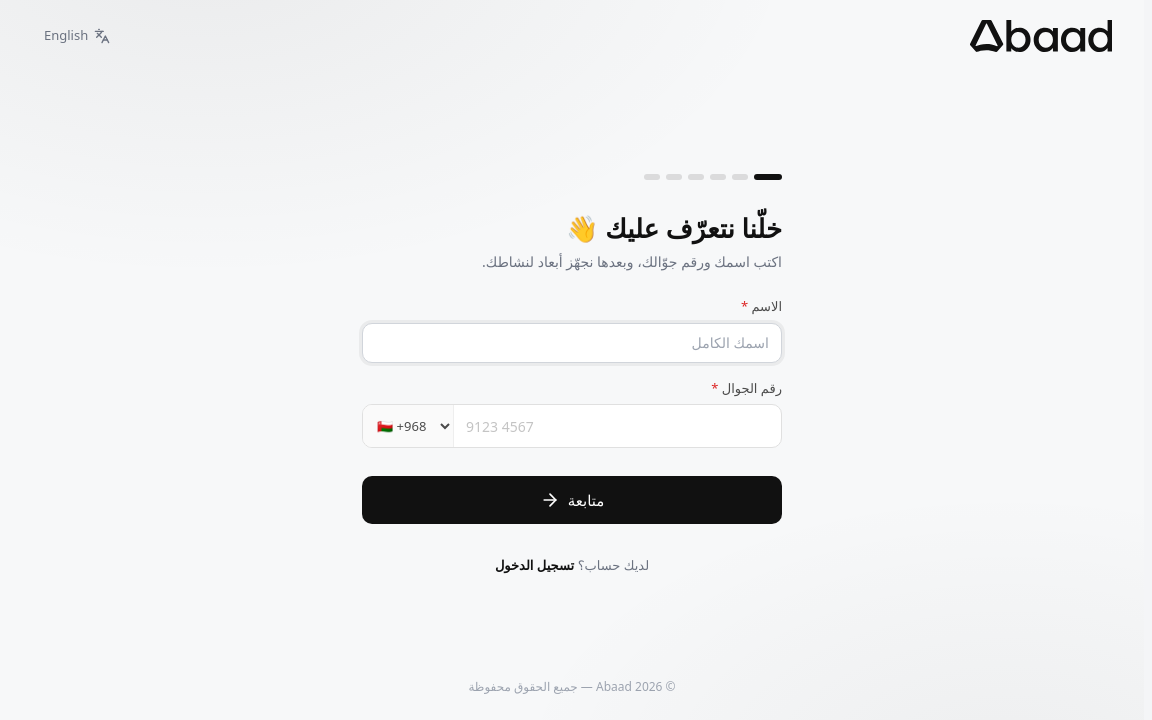
Test: معالج التسجيل › يُتيح تخطّي الخطوات الاختياريّة وحدها
Type "سالم" into the field labelled "الاسم *".
click(572, 343); type("سالم")  # box [362,323,782,363]
Type "91234567" into the field labelled "رقم الجوال *".
click(618, 426); type("91234567")  # box [454,405,781,447]
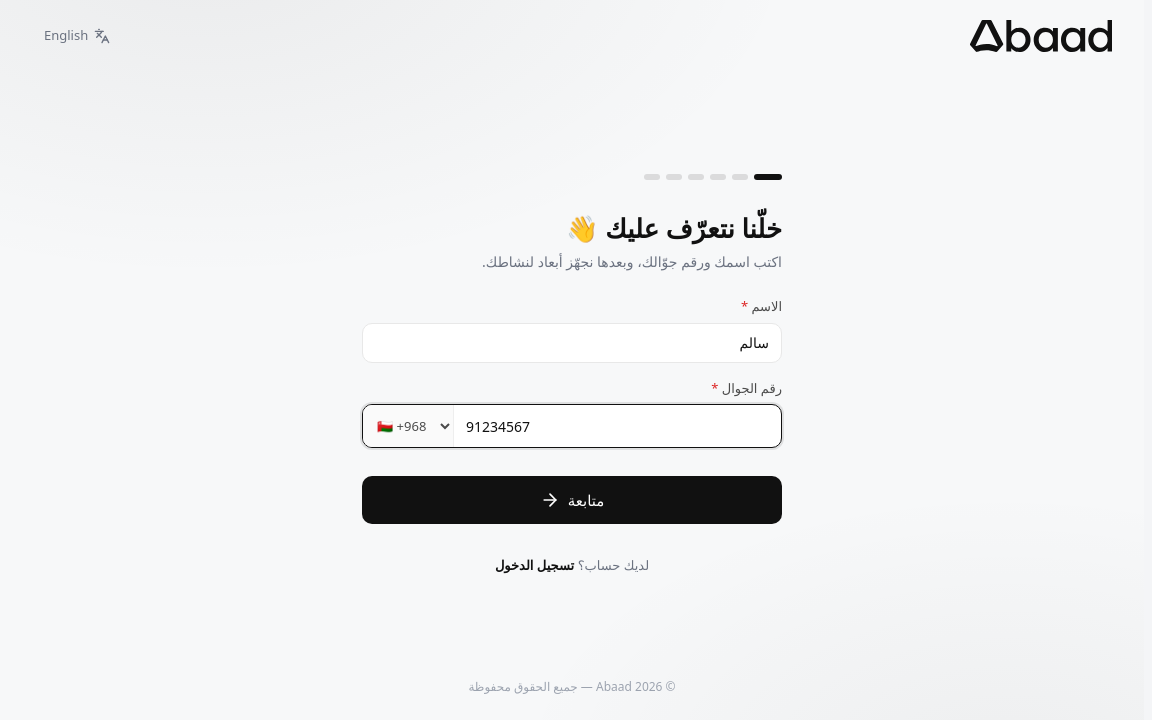
Click the button "متابعة".
click(572, 500)  # box [362,476,782,524]
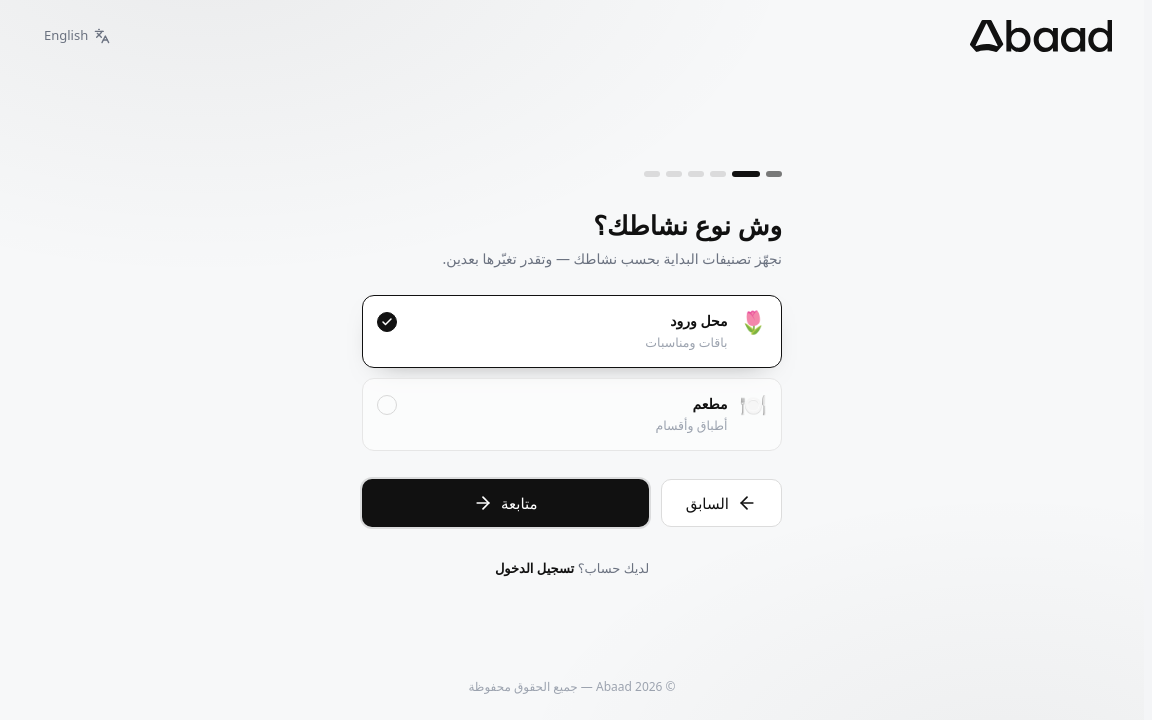
Expected: the button "تخطّي" is not shown
Click the button "متابعة".
click(505, 503)  # box [362,479,649,527]
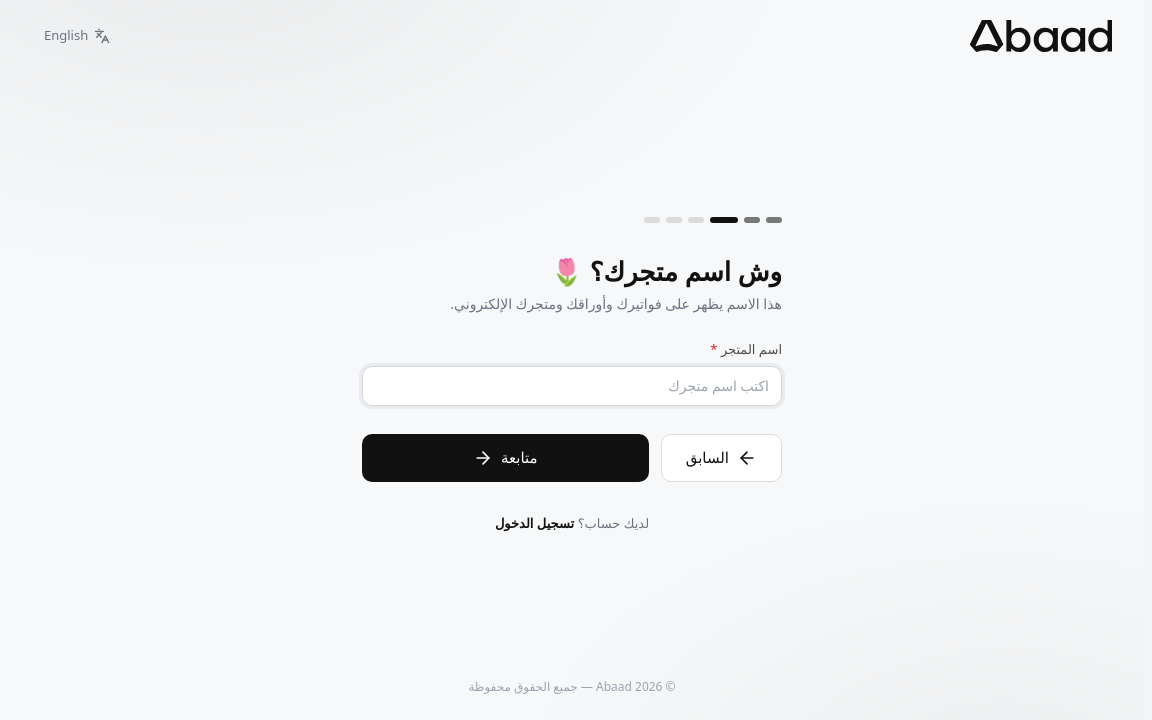
Type "زهور" into the field labelled "اسم المتجر *".
click(572, 386); type("زهور")  # box [362,366,782,406]
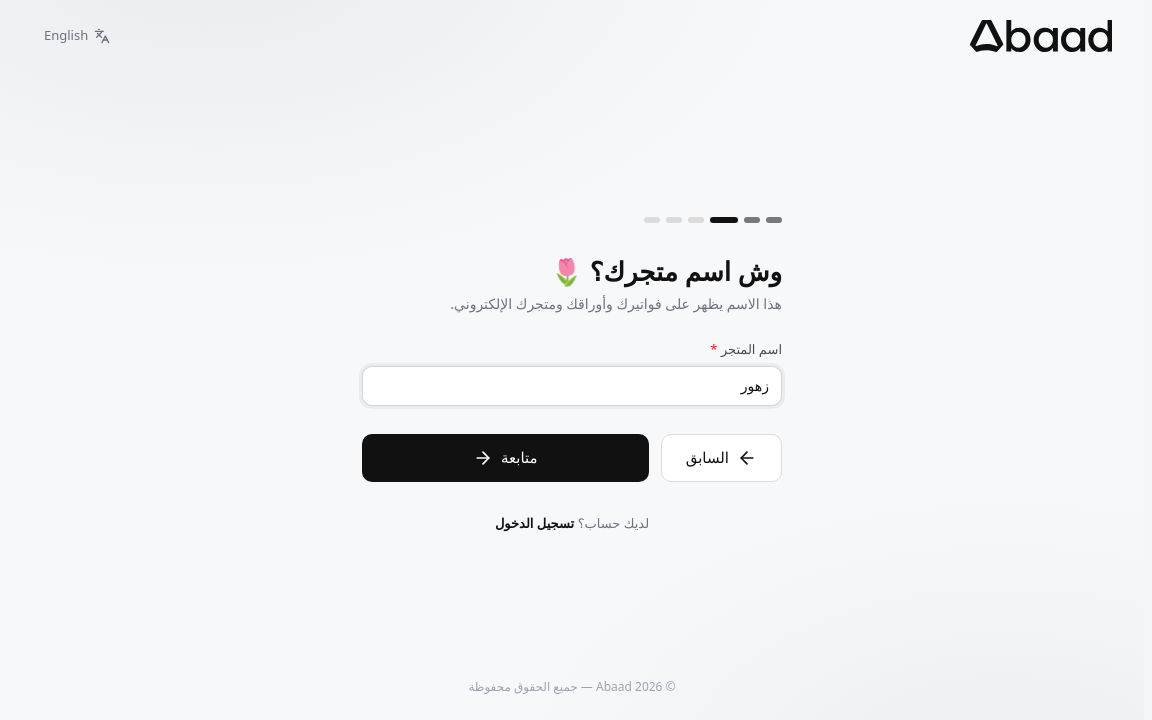
Click the button "متابعة".
click(505, 458)  # box [362,434,649,482]
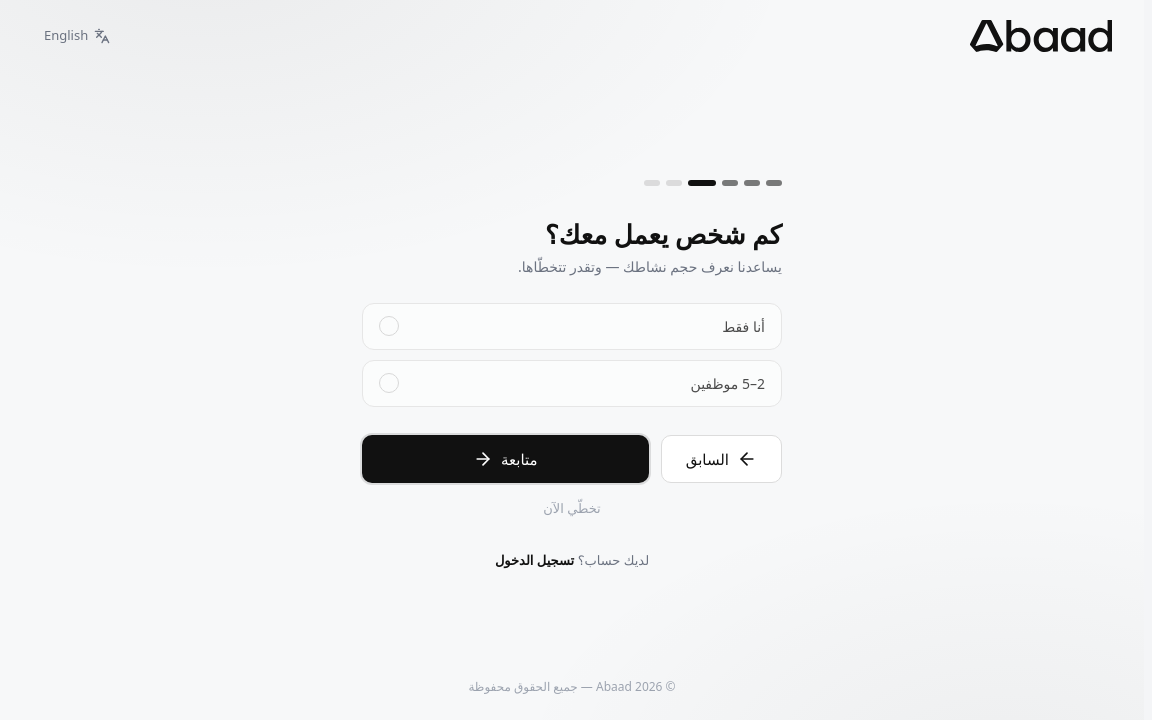
Expected: the heading "كم شخص يعمل معك؟" is shown, [545,216,782,252]
Click the button "تخطّي الآن".
click(572, 509)  # box [362,499,782,518]
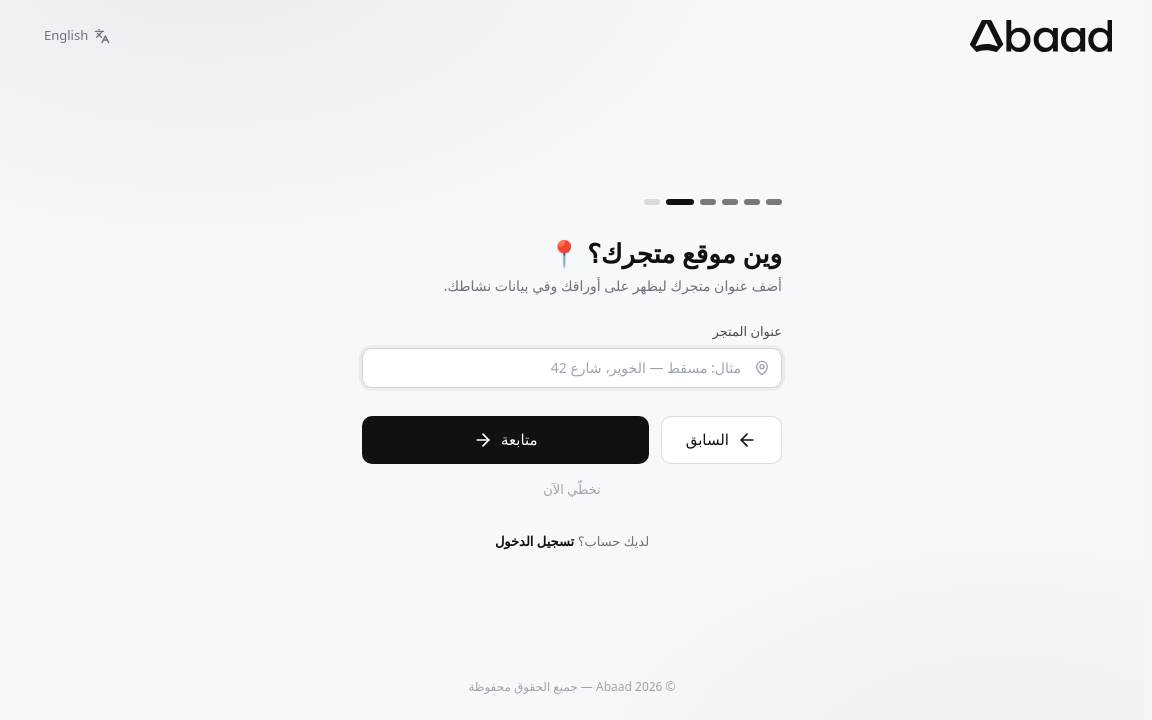
Expected: the heading "وين موقع متجرك؟ 📍" is shown, [548,235,782,271]
